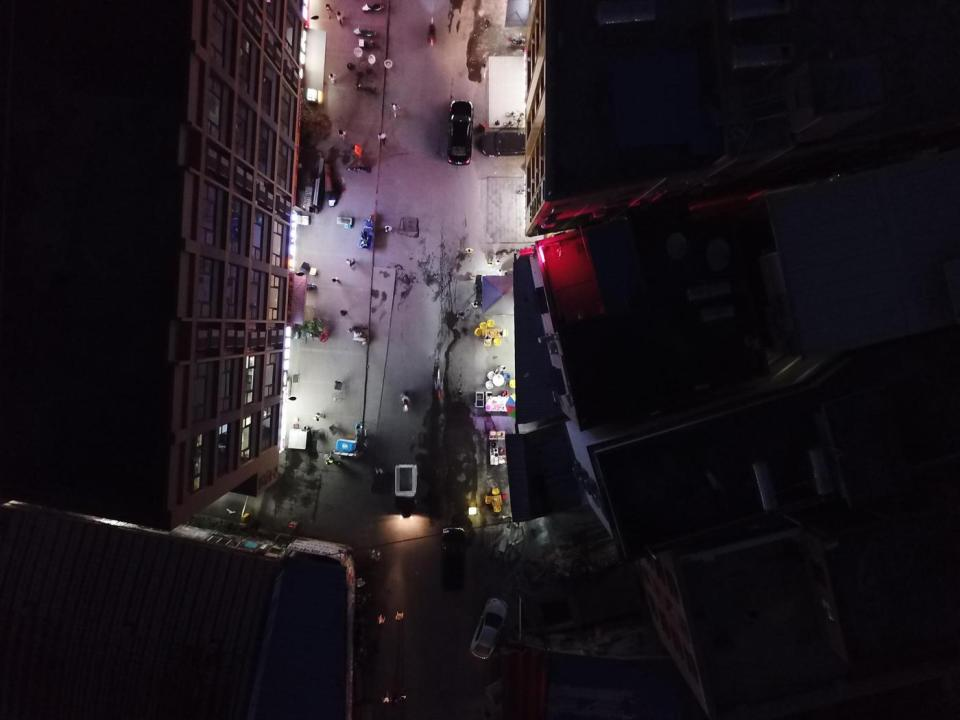car: (470, 598, 510, 660), (439, 525, 468, 591), (446, 100, 475, 166), (479, 131, 534, 157)
